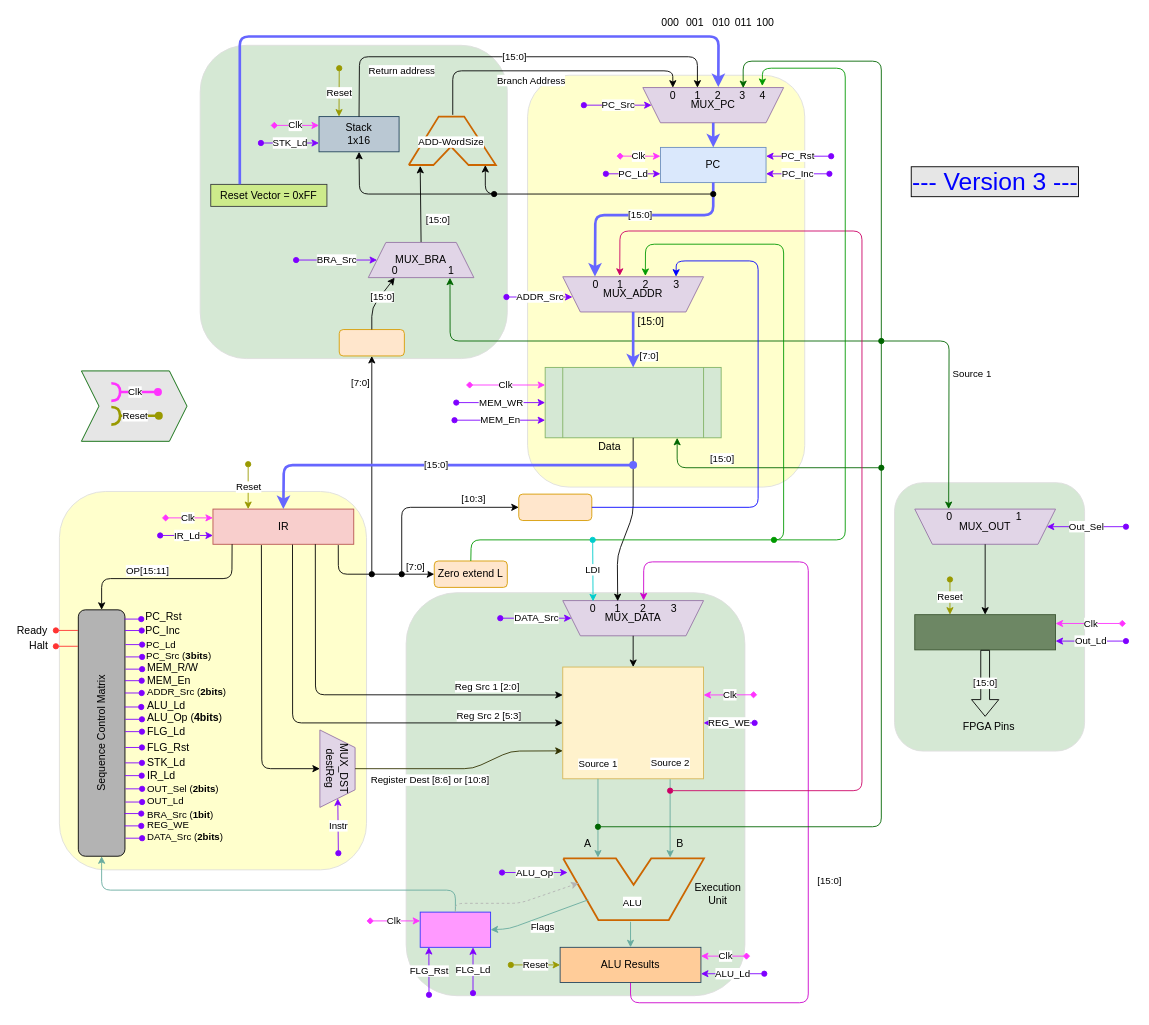
This 1149x1025 diagram has some shape labels left out. The shapes that lost their labels are listed below. From the top down, each one's centre as x and y in pixels, then its label:
the point at 371,342: Sign extend
the point at 632,402: Memory BRAM 256x16
the point at 555,507: Zero extend H
the point at 985,632: Output
the point at 633,722: Register file 8x16
the point at 455,929: ALU Flags
